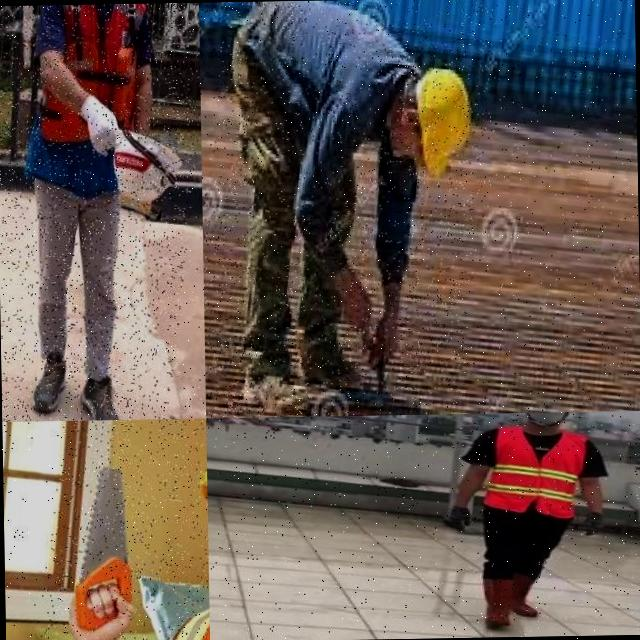boots: (234, 347, 322, 418), (291, 322, 368, 403), (22, 347, 72, 417), (72, 370, 130, 420), (474, 574, 517, 628), (510, 576, 544, 620)
helmet: (402, 60, 484, 187)
vest: (15, 3, 156, 206), (484, 420, 589, 522)
